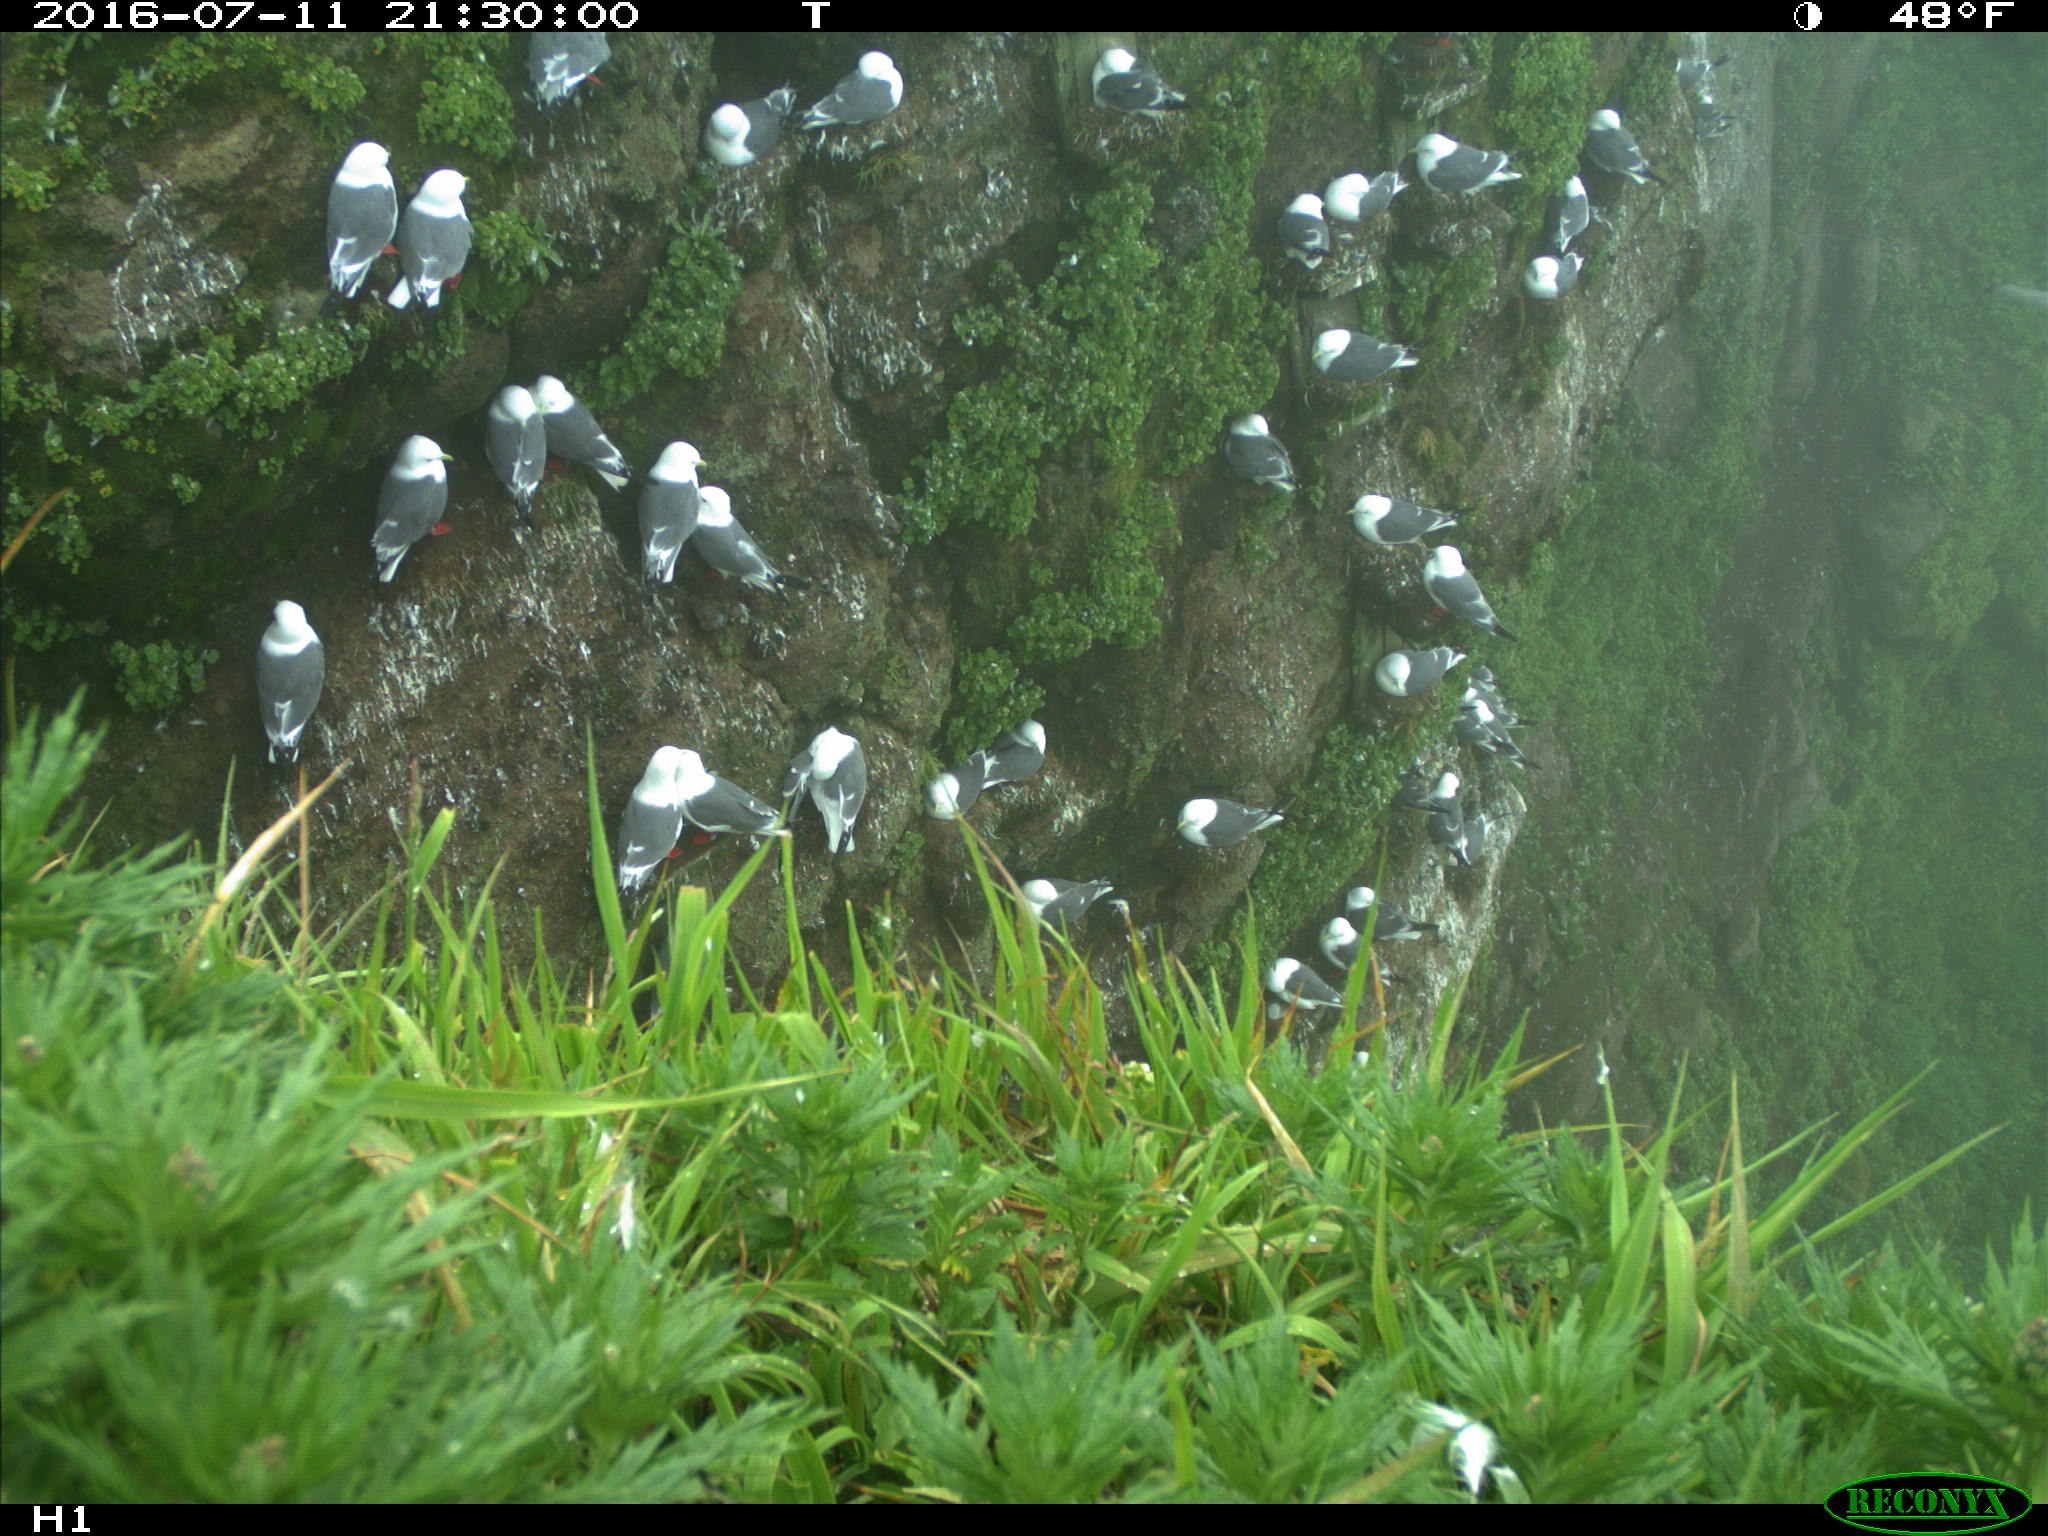Kittiwake: (579, 708, 698, 908), (352, 403, 469, 599), (1059, 24, 1226, 148), (769, 703, 885, 879), (522, 344, 640, 513), (672, 713, 792, 871), (316, 115, 410, 310), (466, 349, 566, 529), (398, 136, 493, 323), (247, 579, 337, 776), (634, 408, 711, 629), (693, 471, 808, 616), (1293, 303, 1442, 403), (1405, 115, 1538, 219), (1159, 774, 1308, 866), (1209, 381, 1317, 505), (1408, 524, 1521, 642), (964, 691, 1100, 787), (798, 40, 927, 140), (689, 79, 813, 182), (1000, 850, 1130, 947), (1305, 904, 1437, 997), (1663, 40, 1751, 177), (1321, 139, 1430, 248), (1337, 466, 1476, 549), (1253, 933, 1363, 1026), (1580, 90, 1667, 207), (1450, 650, 1529, 778), (1337, 862, 1447, 950), (506, 27, 632, 103), (1408, 758, 1492, 871), (906, 736, 1003, 829), (1274, 169, 1351, 282), (1350, 634, 1479, 697), (1517, 232, 1613, 311), (1543, 153, 1613, 258)
